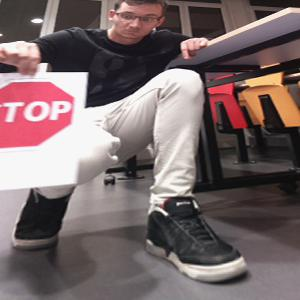stop: (1, 80, 75, 152)
